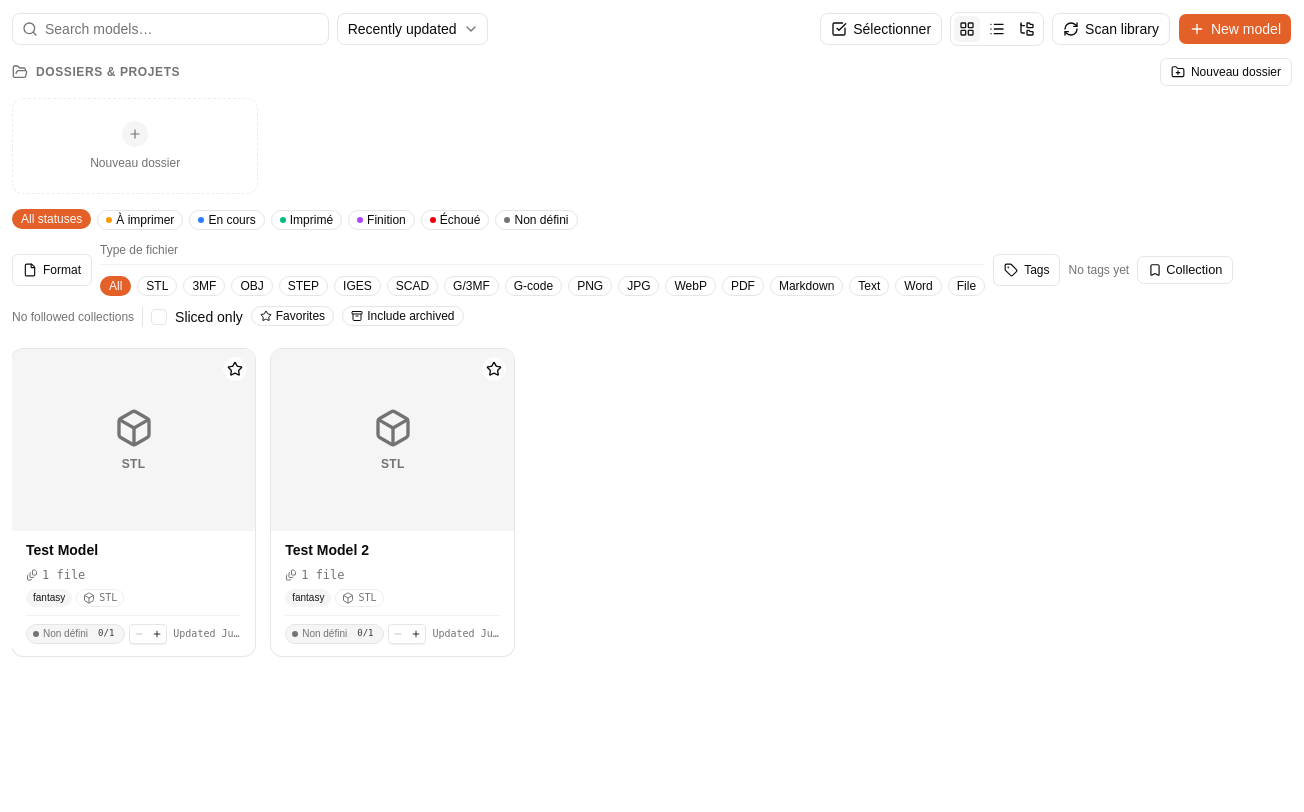
LibraryPage › ctrl-clicking a card toggles just that card's selection
Expected: the heading "Test Model" is shown, [26,542,98,558]
Click the link "Test Model" at (134, 502), box [12,349,255,656]
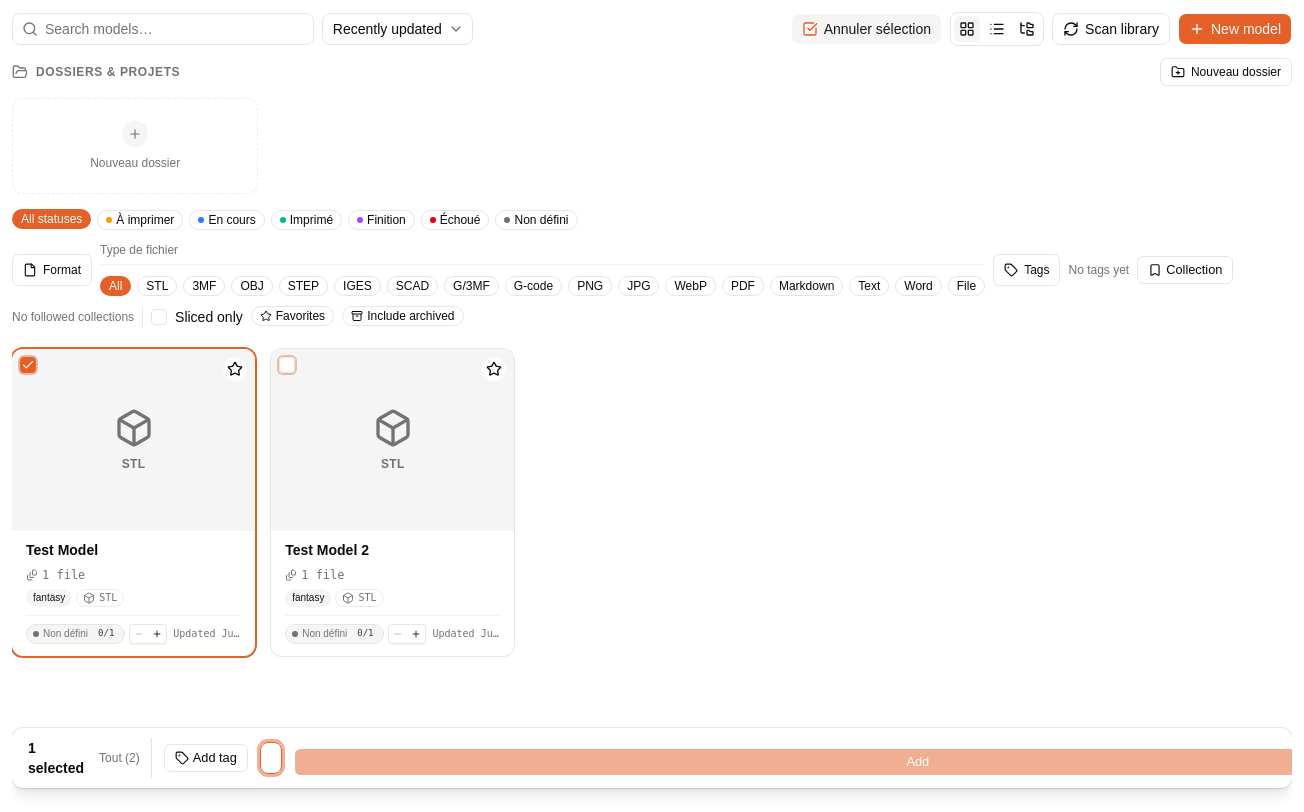
Expected: the text "1 selected" is shown, [28,738,84,778]
Click the link "Test Model" at (134, 502), box [12,349,255,656]
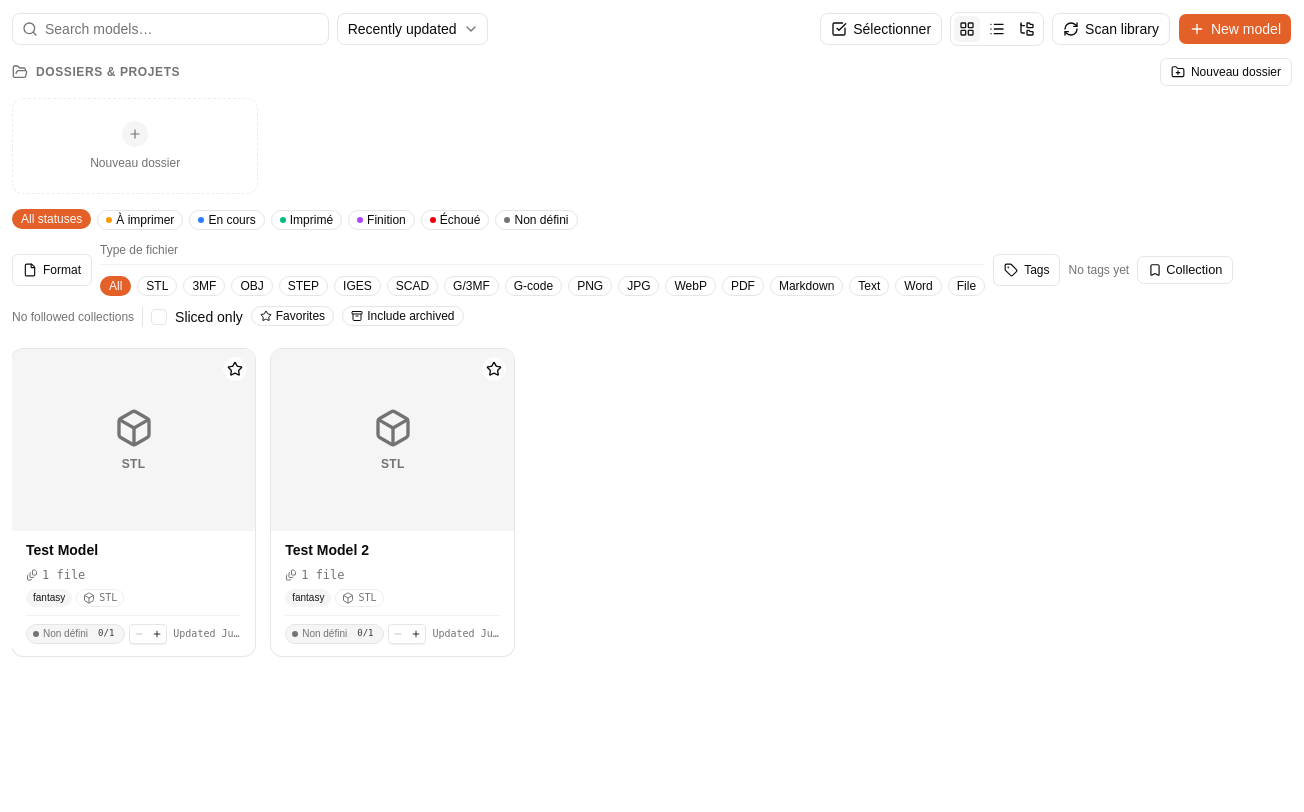
Expected: the text "selected" is gone
